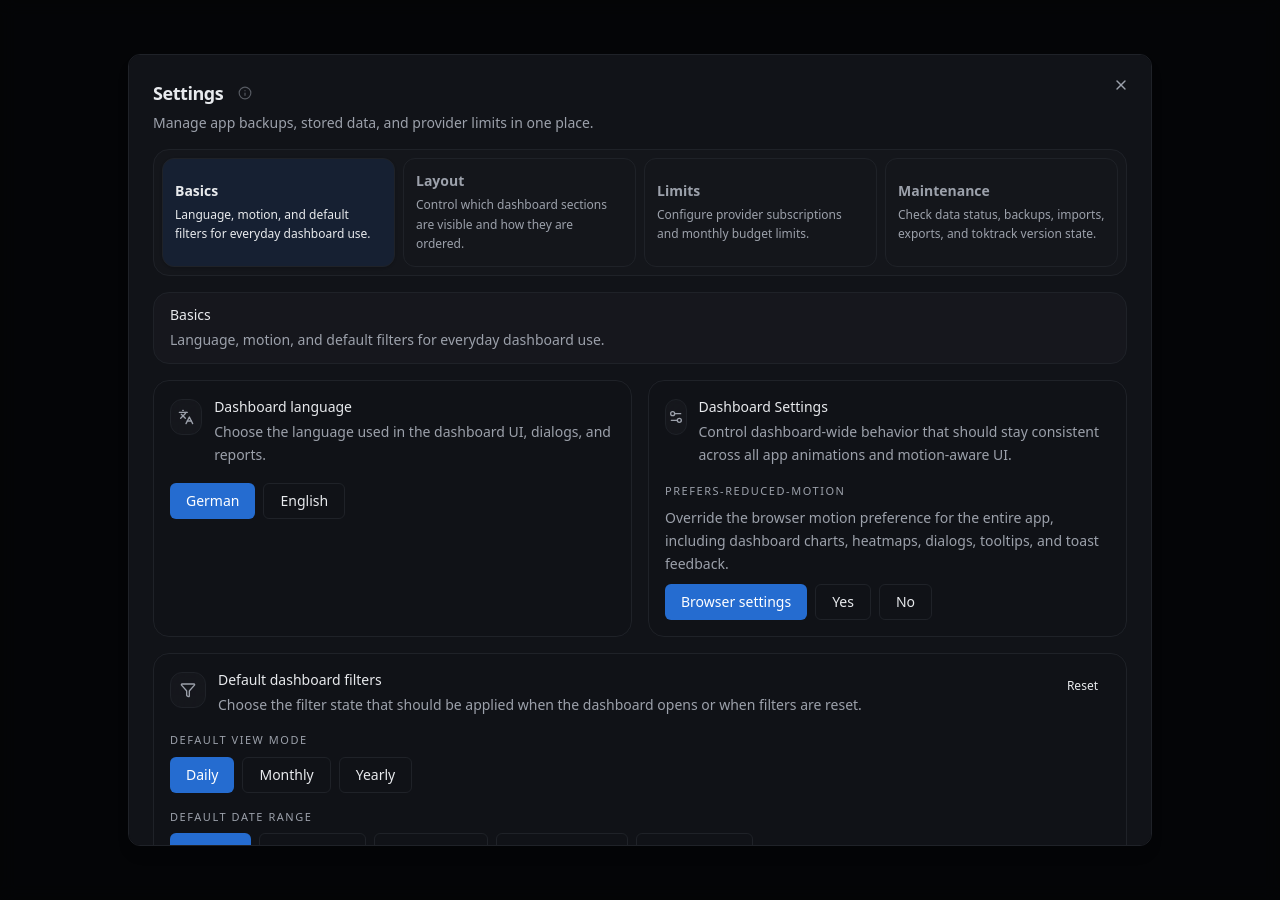
Scenario: SettingsModal provider limits › keeps monthly limit typing local until blur commits the rounded value
The width and height of the screenshot is (1280, 900).
Click the tab "Limits": click(760, 212) x1=644 y1=158 x2=877 y2=266
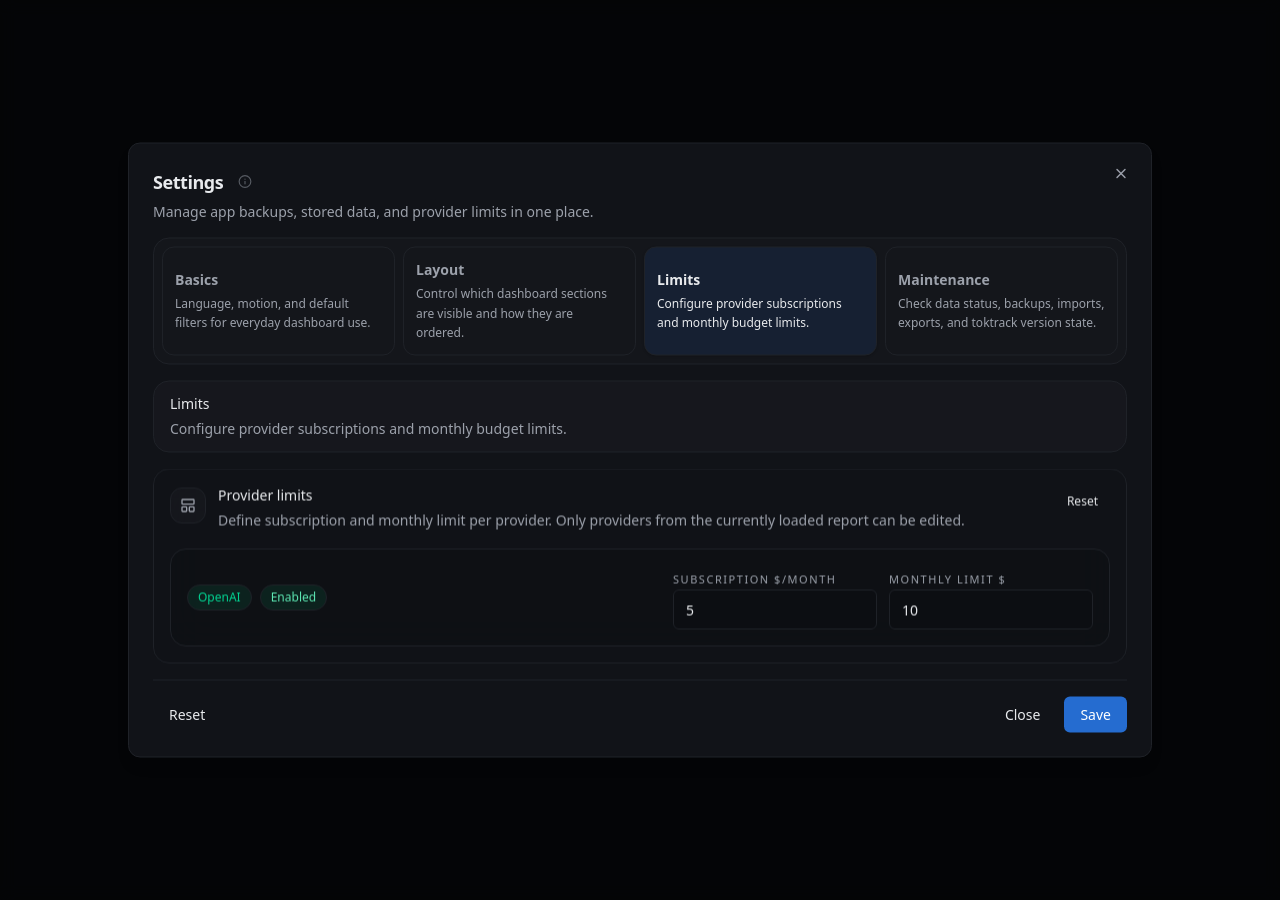
expect the element with test id "settings-provider-subscription-OpenAI" is shown: met, box x1=170 y1=548 x2=1110 y2=646
Replace the text in the field labelled "Monthly limit $" with "12.": (991, 610) x1=889 y1=590 x2=1093 y2=630
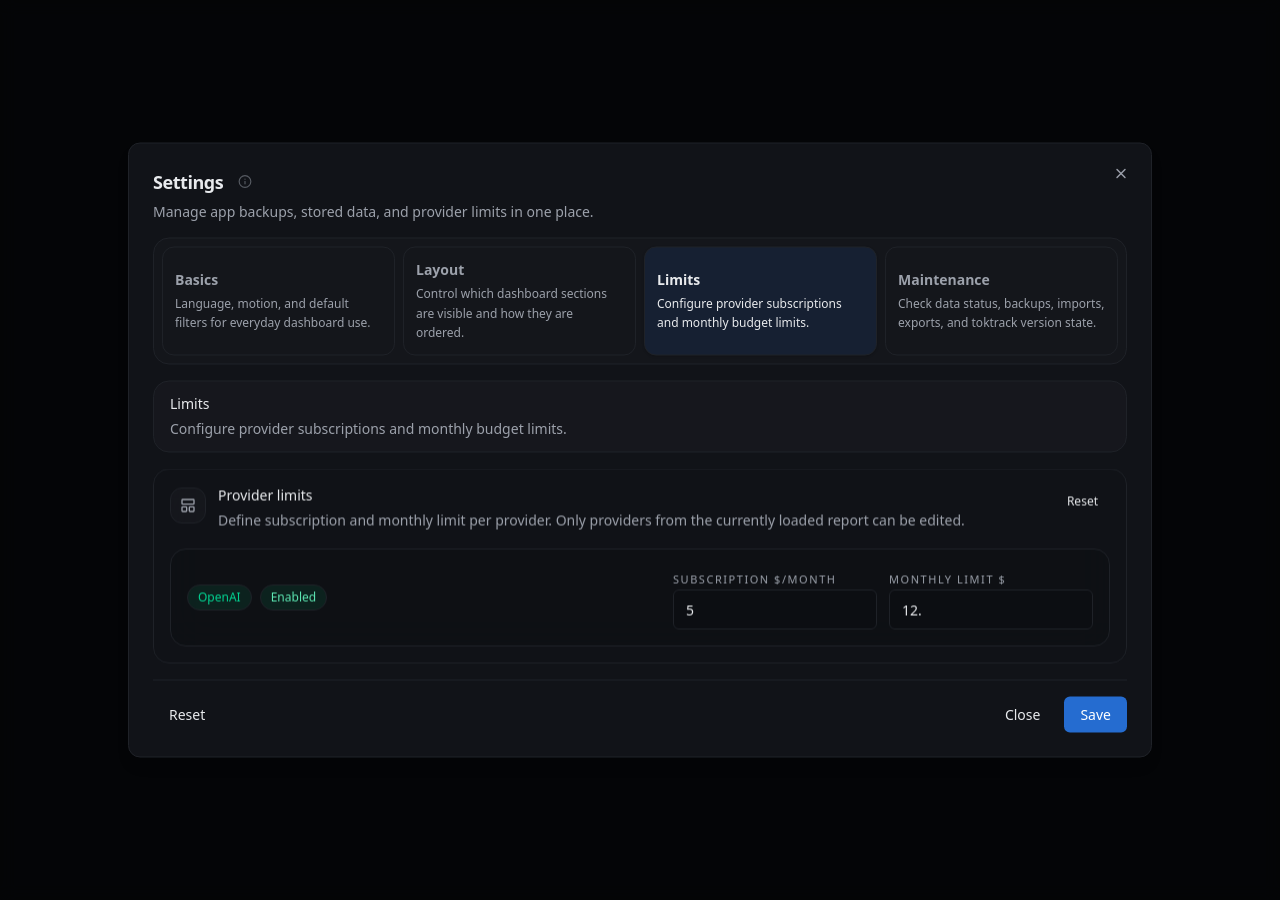
Replace the text in the field labelled "Monthly limit $" with "12.345": (991, 610) x1=889 y1=590 x2=1093 y2=630
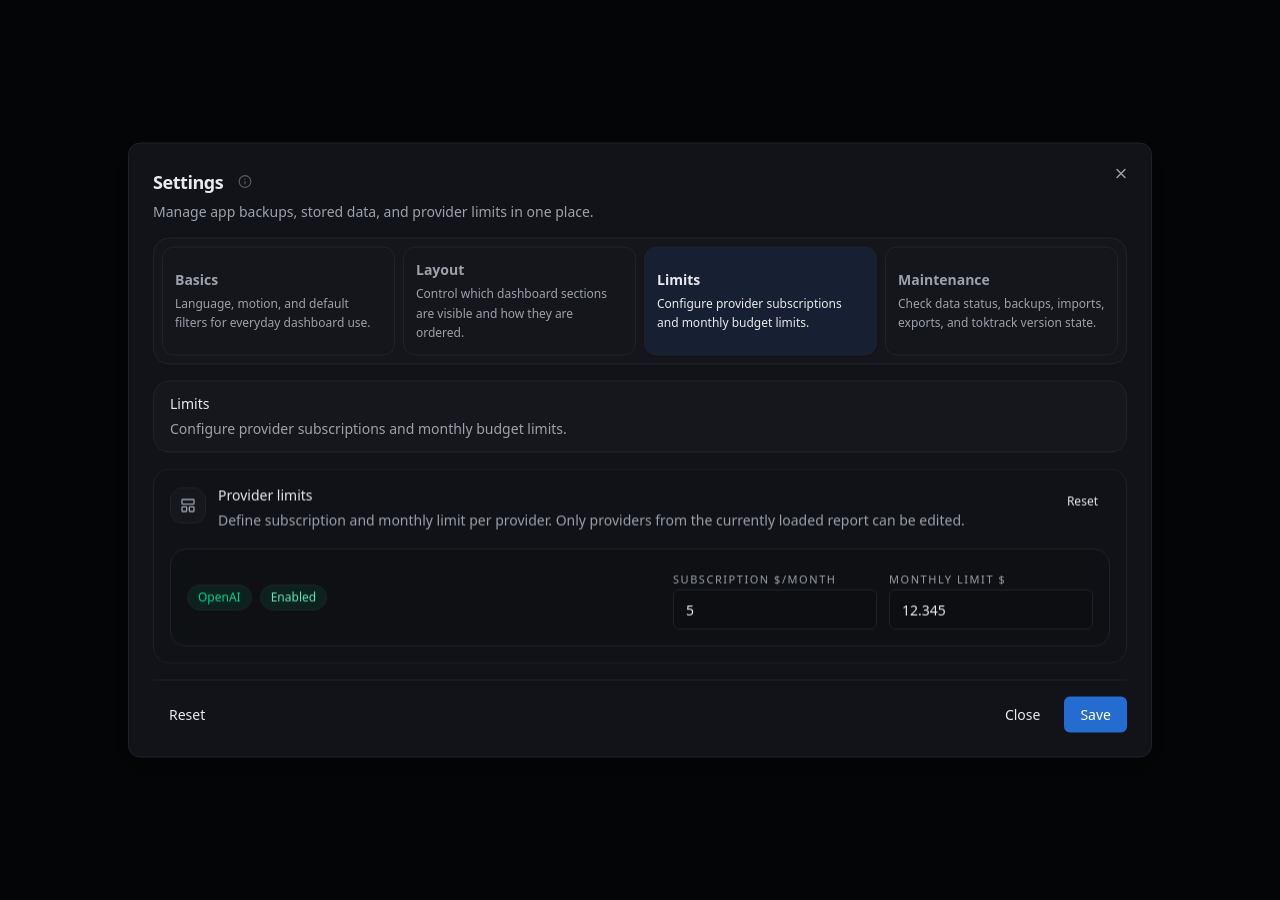
Leave the field labelled "Monthly limit $", box x1=889 y1=590 x2=1093 y2=630
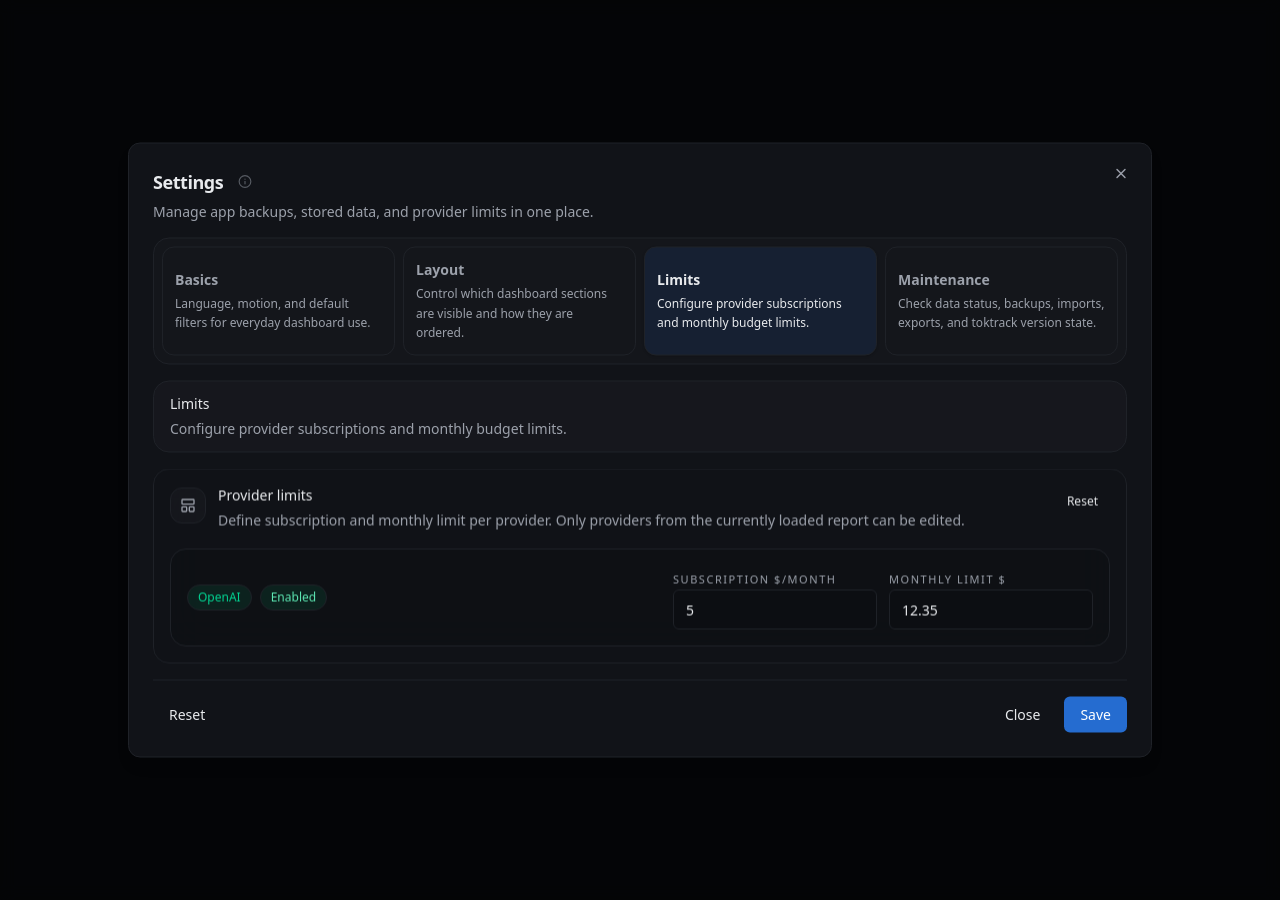
expect the field labelled "Monthly limit $" holds "12.35": met, box x1=889 y1=590 x2=1093 y2=630
